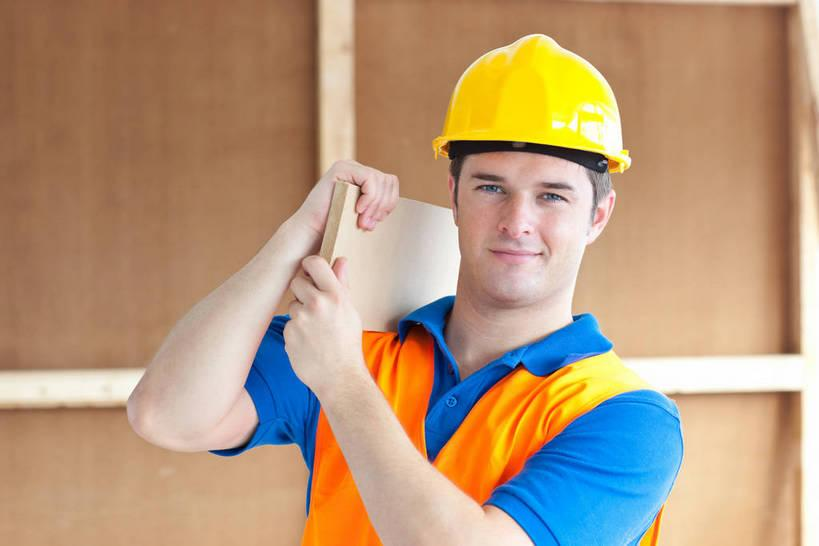helmet: (429, 32, 637, 180)
